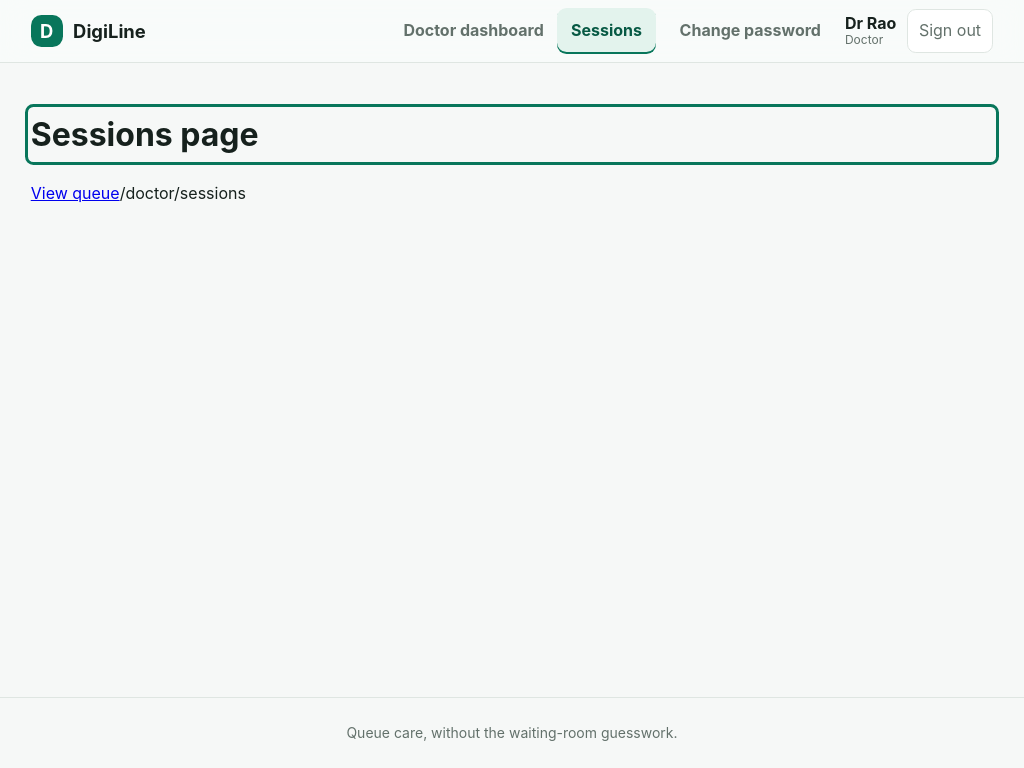
Test: doctor navigation › View queue selects the session, returns to Dashboard, and supports returning to Sessions
Click the link "View queue": click(75, 193) [31,183,120,203]
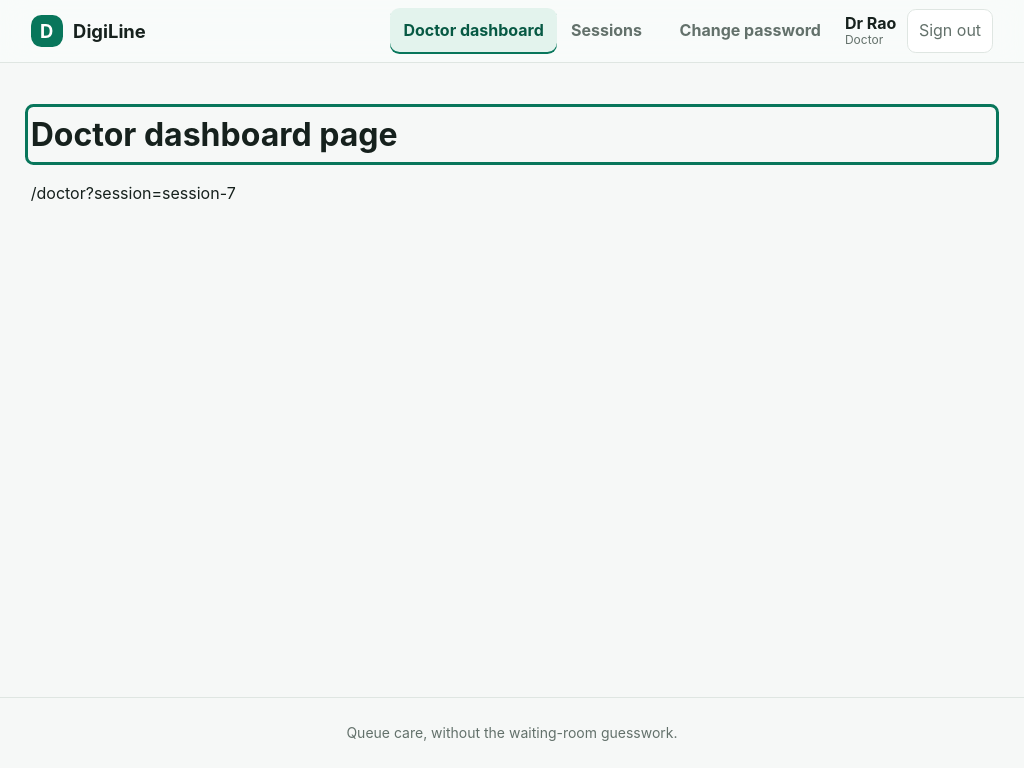
Expected: the text named "Current location" reads "/doctor?session=session-7", [31,183,236,203]
Click the link "Sessions": click(606, 30) [571,20,642,40]
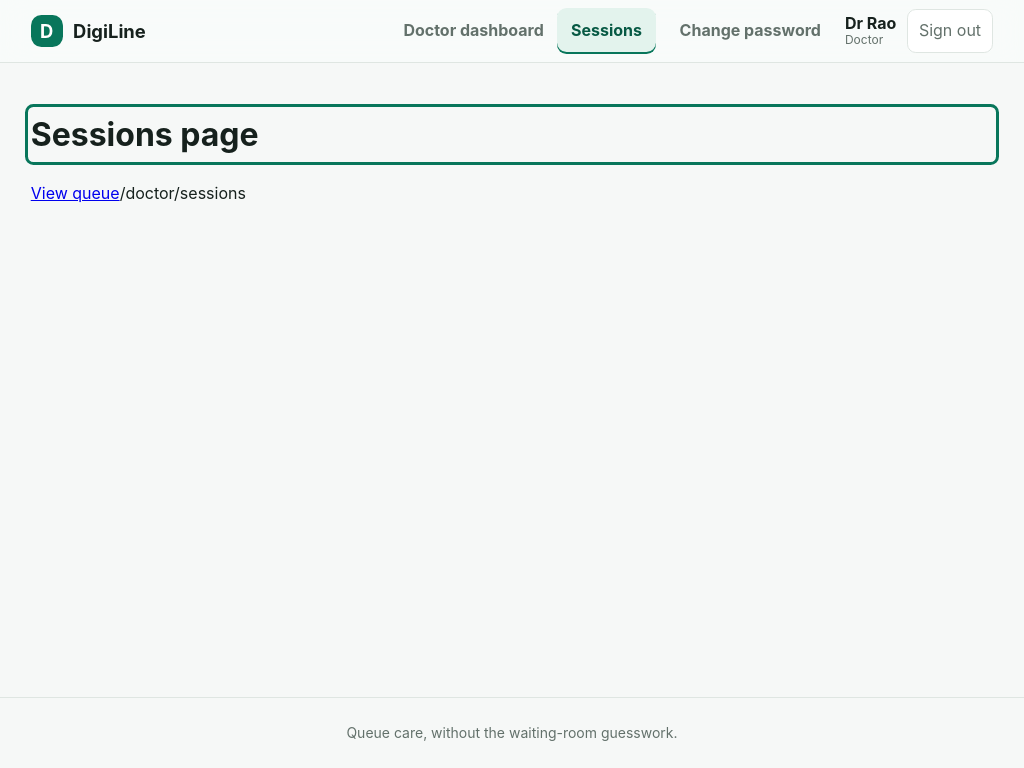
Expected: the text named "Current location" reads "/doctor/sessions", [120,183,246,203]
